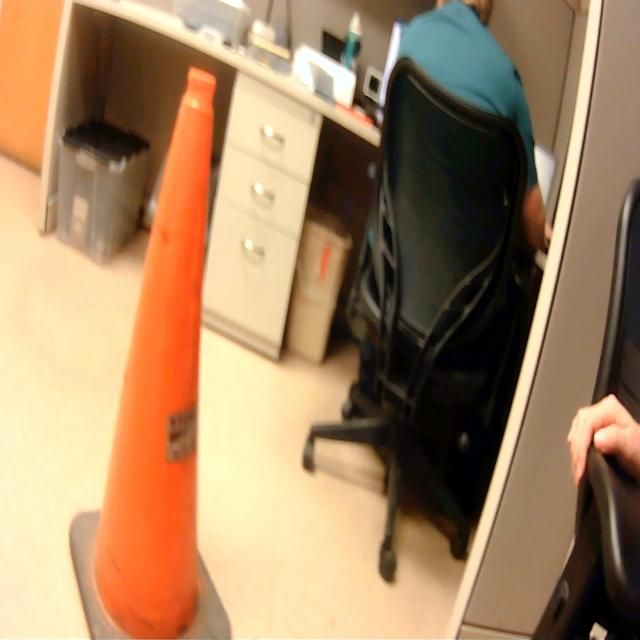traffic cone: (65, 58, 238, 640)
